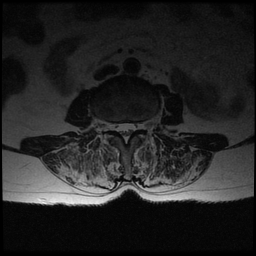CCS_normal: (122, 114, 129, 150)
LFS_normal: (137, 114, 144, 138)
LLS_normal: (129, 115, 137, 141)
RFS_normal: (106, 113, 115, 139)
RLS_normal: (115, 115, 122, 141)
